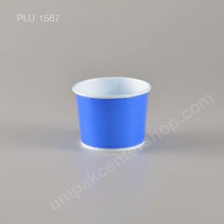paper_cup: (68, 71, 155, 154)
